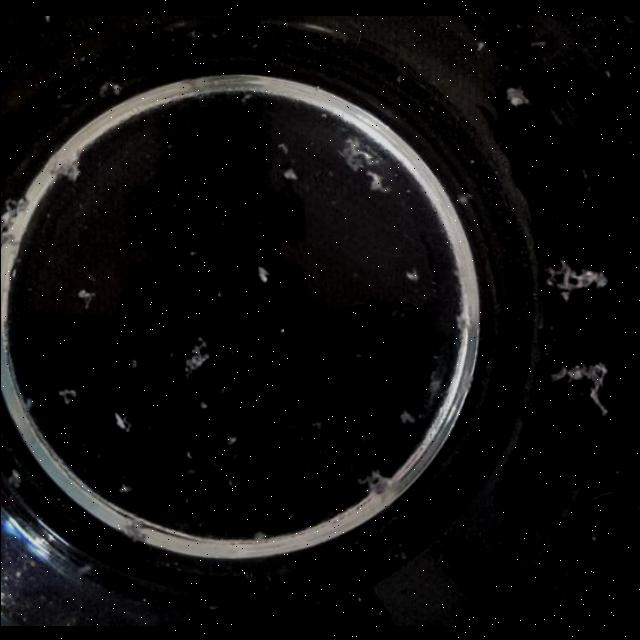Fibre: (334, 132, 394, 194), (552, 360, 610, 414), (546, 260, 606, 294), (182, 336, 210, 378), (49, 155, 80, 183), (357, 468, 388, 494), (120, 518, 146, 542), (366, 168, 389, 192), (505, 84, 529, 106), (76, 288, 95, 308), (6, 467, 22, 488), (57, 388, 77, 404), (398, 408, 414, 424), (76, 562, 92, 576), (405, 267, 419, 281), (118, 481, 132, 493)
microbeads: (98, 80, 120, 98), (113, 410, 131, 430), (256, 265, 268, 283), (282, 167, 298, 180), (456, 191, 472, 203), (240, 91, 254, 103), (275, 142, 287, 154), (226, 434, 237, 446), (475, 39, 485, 51), (310, 420, 322, 430), (198, 399, 208, 409), (214, 286, 222, 298), (130, 357, 138, 369), (188, 249, 198, 257), (250, 40, 258, 50), (185, 449, 193, 458), (352, 352, 362, 358), (396, 73, 402, 83), (356, 596, 362, 604), (319, 112, 326, 118), (279, 327, 285, 333), (590, 535, 596, 541)
